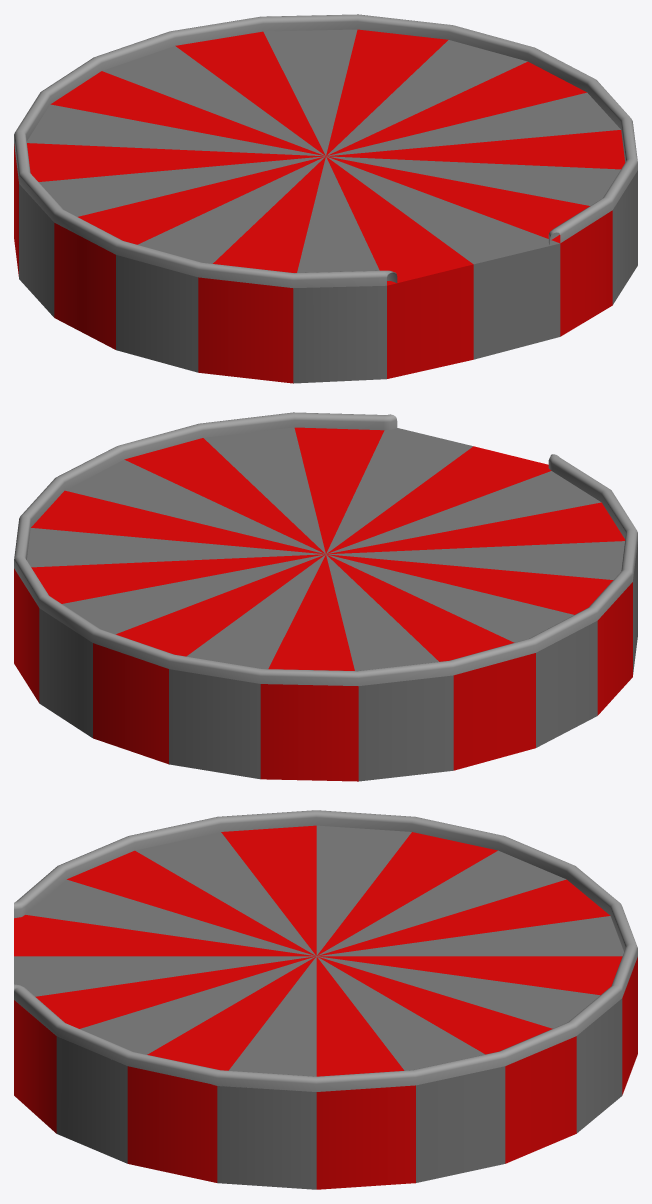
Rendered from Bosslevelend.fbx.
The picture shows the model from 3 angles, top to bottom: view 1: azimuth 30°, elevation 25°; view 2: azimuth 150°, elevation 25°; view 3: azimuth 270°, elevation 25°; orthographic projection. The views are drawn at different scales.
Parts seen in each view (by area): view 1: Big_Hard_End_Frame1; view 2: Big_Hard_End_Frame1; view 3: Big_Hard_End_Frame1.
Boxes of the visible parts, x1=… form: Big_Hard_End_Frame1: x1=14, y1=14, x2=637, y2=383; Big_Hard_End_Frame1: x1=14, y1=412, x2=637, y2=781; Big_Hard_End_Frame1: x1=14, y1=810, x2=637, y2=1189.
Size of the model in its own units: 12.53 by 2.36 by 12.17.
